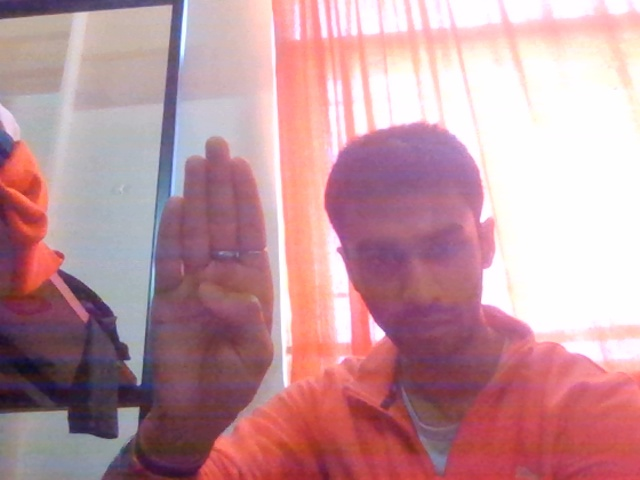B: (127, 126, 288, 436)
